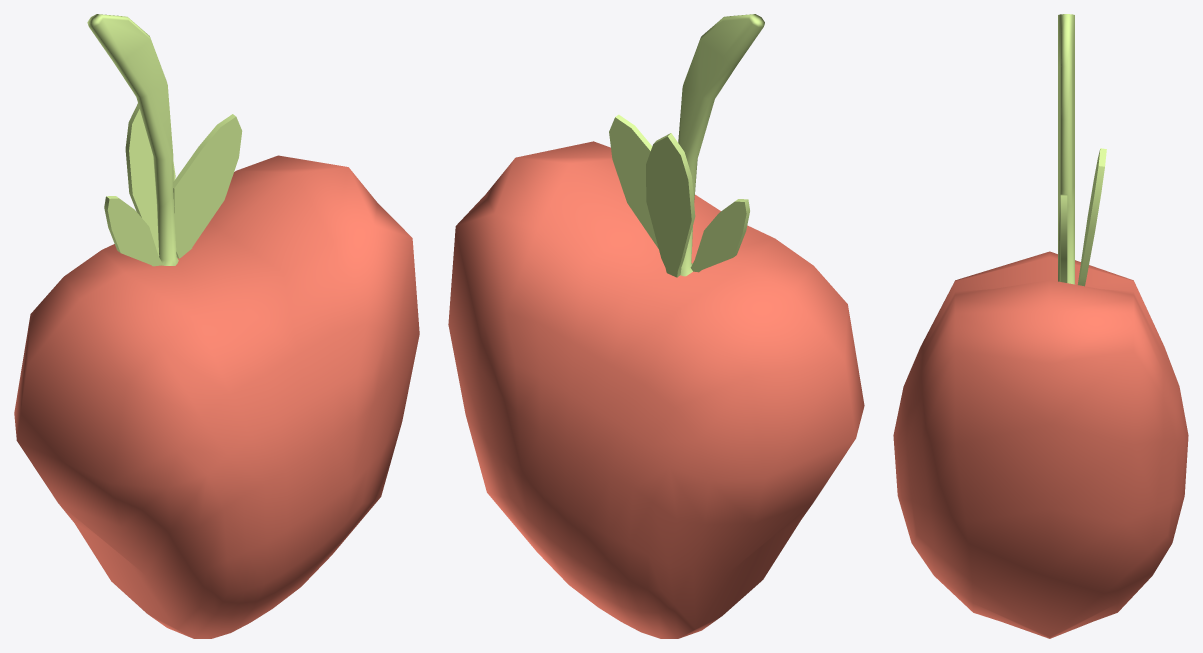
The model's file is Corto_Fras.fbx.
3 views of the same model, side by side, from view 1: azimuth 30°, elevation 25°; view 2: azimuth 150°, elevation 25°; view 3: azimuth 270°, elevation 25° (orthographic). The views are drawn at different scales.
Parts seen in each view (by area): view 1: k_cook_strawberries_03_part_01_geo, k_cook_strawberries_03_part_04_geo, k_cook_strawberries_03_part_05_geo, k_cook_strawberries_03_part_03_geo, k_cook_strawberries_03_part_02_geo; view 2: k_cook_strawberries_03_part_01_geo, k_cook_strawberries_03_part_04_geo, k_cook_strawberries_03_part_03_geo, k_cook_strawberries_03_part_05_geo, k_cook_strawberries_03_part_02_geo; view 3: k_cook_strawberries_03_part_01_geo, k_cook_strawberries_03_part_04_geo, k_cook_strawberries_03_part_03_geo, k_cook_strawberries_03_part_05_geo.
Part boxes in pixels (x1,y1,x2,y2): k_cook_strawberries_03_part_01_geo: (14,155,419,638); k_cook_strawberries_03_part_04_geo: (87,14,178,265); k_cook_strawberries_03_part_05_geo: (173,114,242,258); k_cook_strawberries_03_part_03_geo: (125,103,175,255); k_cook_strawberries_03_part_02_geo: (104,196,162,266); k_cook_strawberries_03_part_01_geo: (448,141,864,638); k_cook_strawberries_03_part_04_geo: (678,14,764,276); k_cook_strawberries_03_part_03_geo: (646,133,695,277); k_cook_strawberries_03_part_05_geo: (609,114,658,248); k_cook_strawberries_03_part_02_geo: (690,199,749,272); k_cook_strawberries_03_part_01_geo: (893,251,1188,638); k_cook_strawberries_03_part_04_geo: (1058,14,1075,284); k_cook_strawberries_03_part_03_geo: (1077,148,1106,286); k_cook_strawberries_03_part_05_geo: (1060,194,1067,282).
Bounding box in the file's own units: 5.1 × 8.06 × 3.73.
